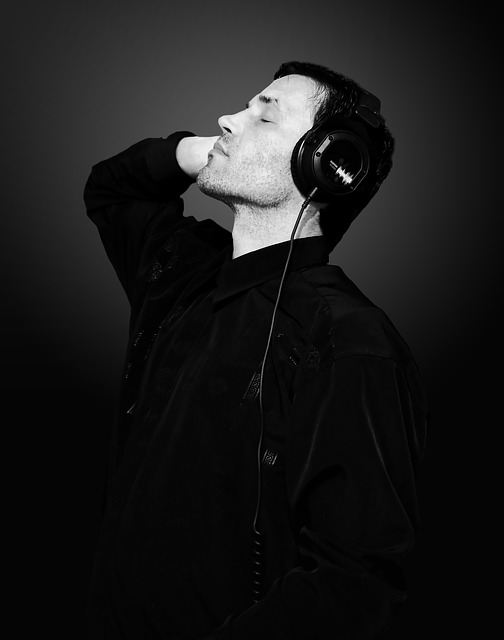headphones: (291, 87, 395, 212)
